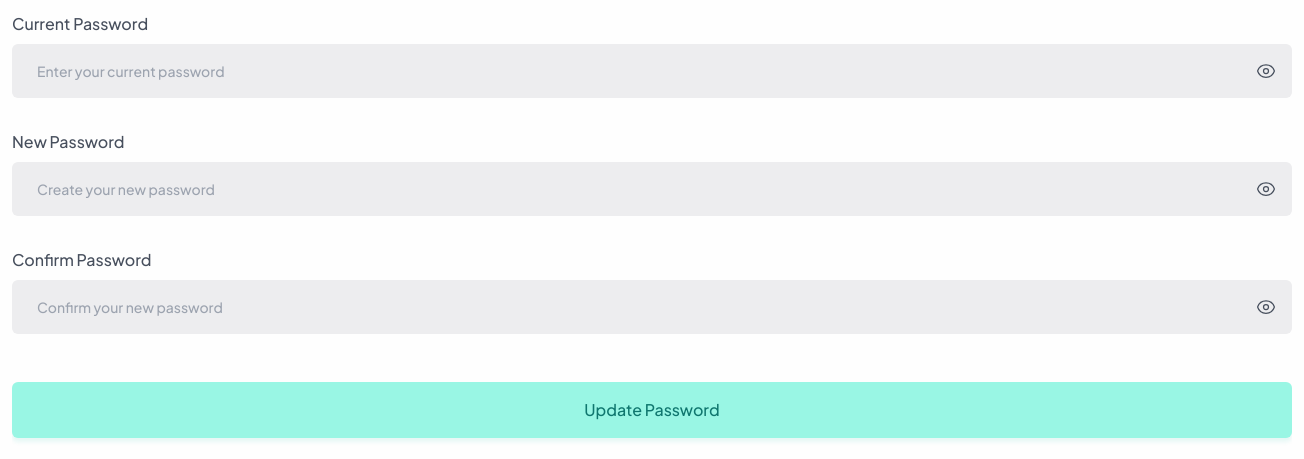
Test case: Functionality › should render correct when passwords dont match
Type "newPass1234" into the password field labelled "New Password" at coordinates (652, 189), box left=12, top=162, right=1292, bottom=216
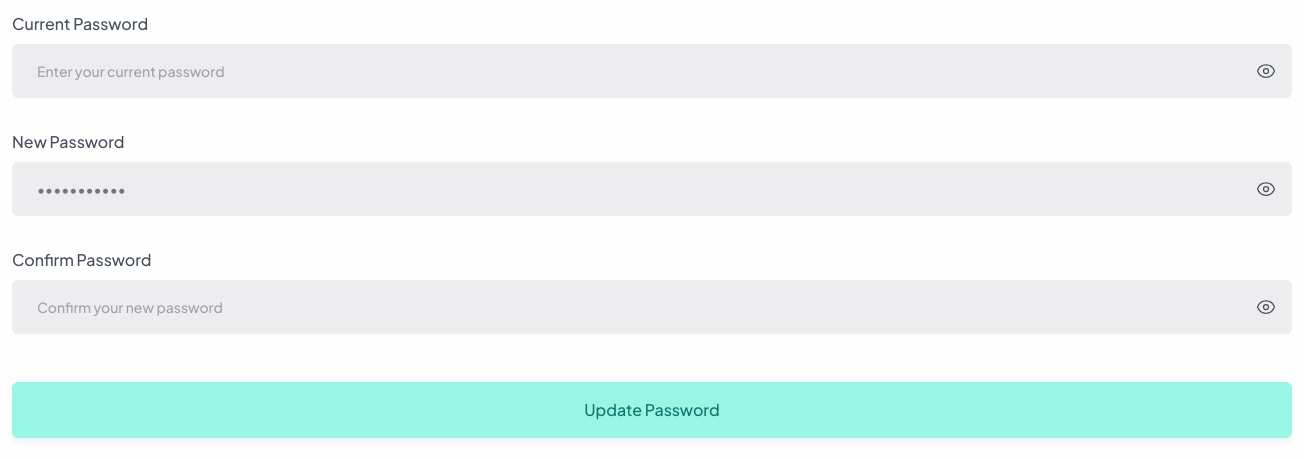
Type "newPass123456" into the password field labelled "Confirm Password" at coordinates (652, 307), box left=12, top=280, right=1292, bottom=334
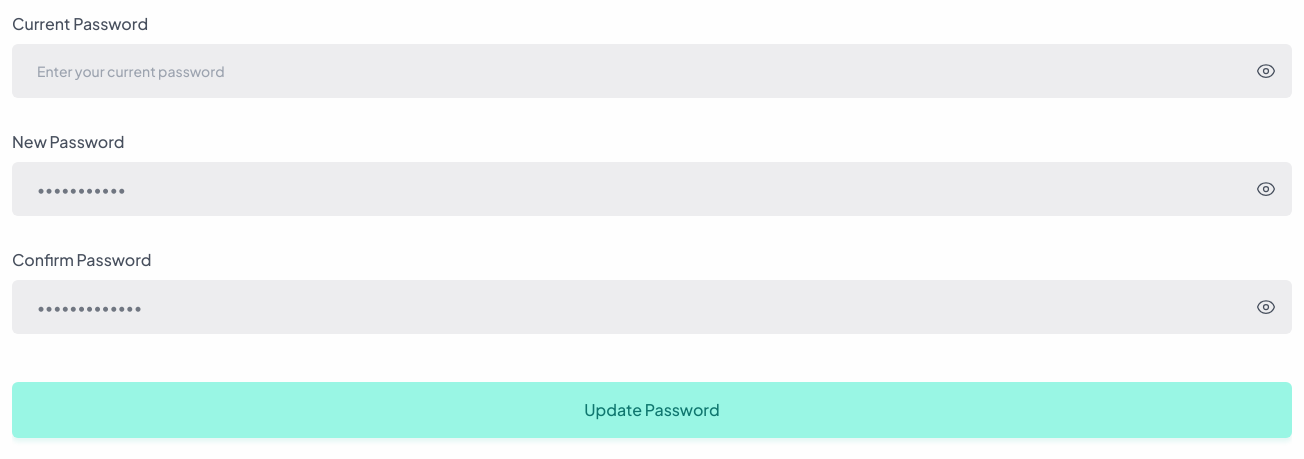
Click the button "Update Password" at coordinates (652, 410), box left=12, top=382, right=1292, bottom=438
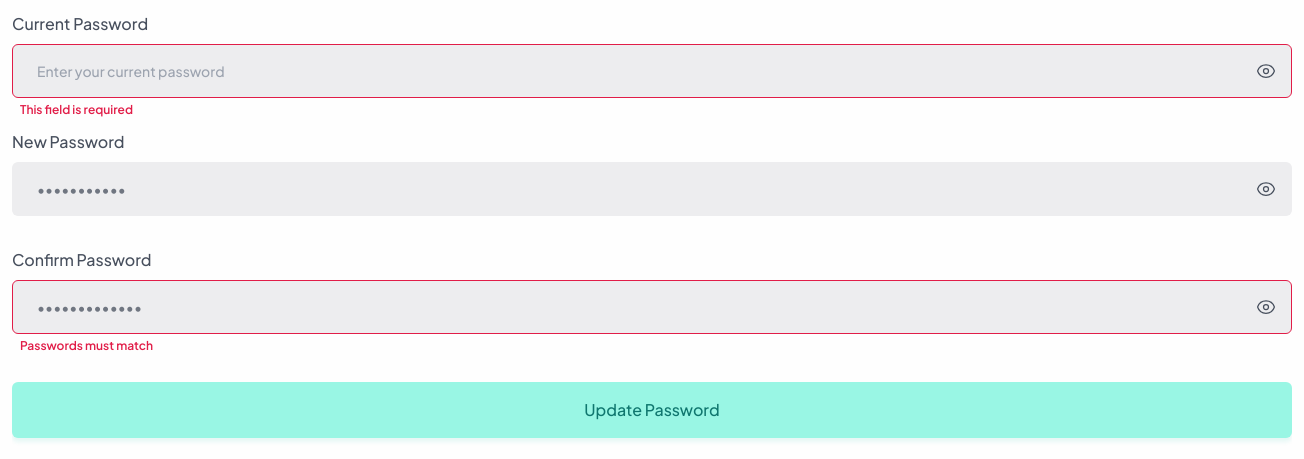
Result: the text "Passwords must match" is shown at left=20, top=338, right=153, bottom=354
